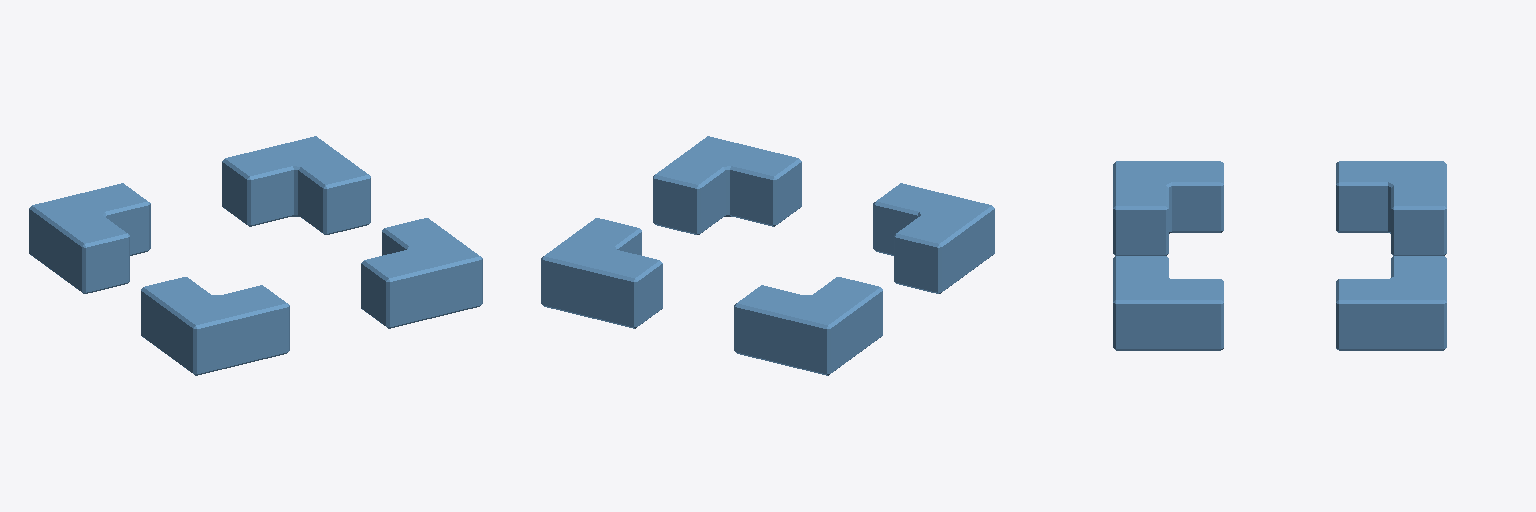
File: cursor.obj
The picture shows the model from 3 angles: view 1: azimuth 30°, elevation 25°; view 2: azimuth 150°, elevation 25°; view 3: azimuth 270°, elevation 25°; orthographic projection.
Parts seen in each view (by area): view 1: Cube.001; view 2: Cube.001; view 3: Cube.001.
Part boxes in pixels (x1,y1,x2,y2): Cube.001: (29,136,482,375); Cube.001: (541,136,994,375); Cube.001: (1113,161,1446,350).
Bounding box in the file's own units: 6 × 1 × 6.